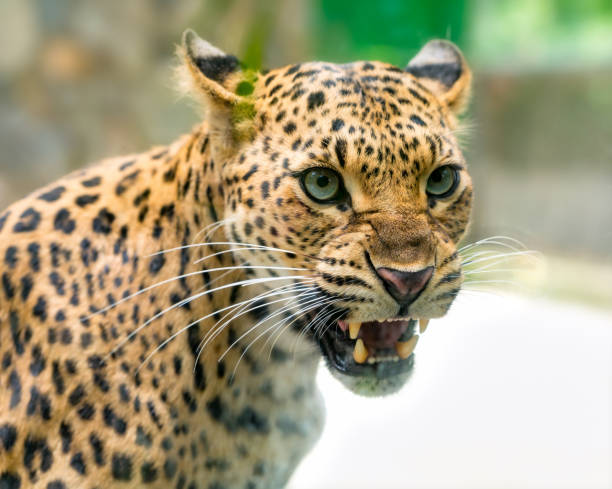cheetah: (152, 9, 513, 415)
